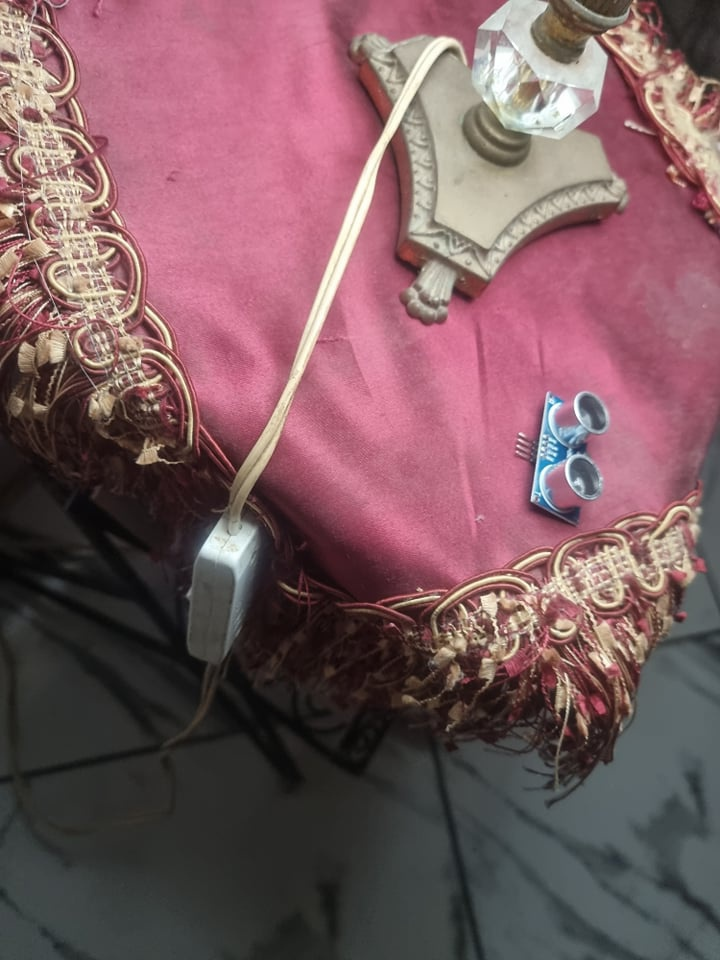SENSOR: (531, 388, 608, 532)
